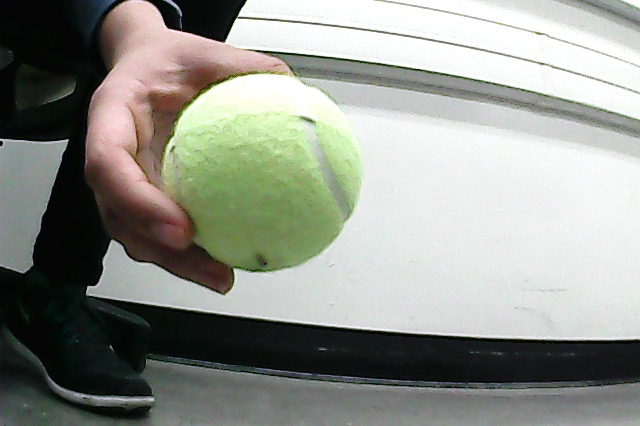ball: (162, 75, 362, 274)
